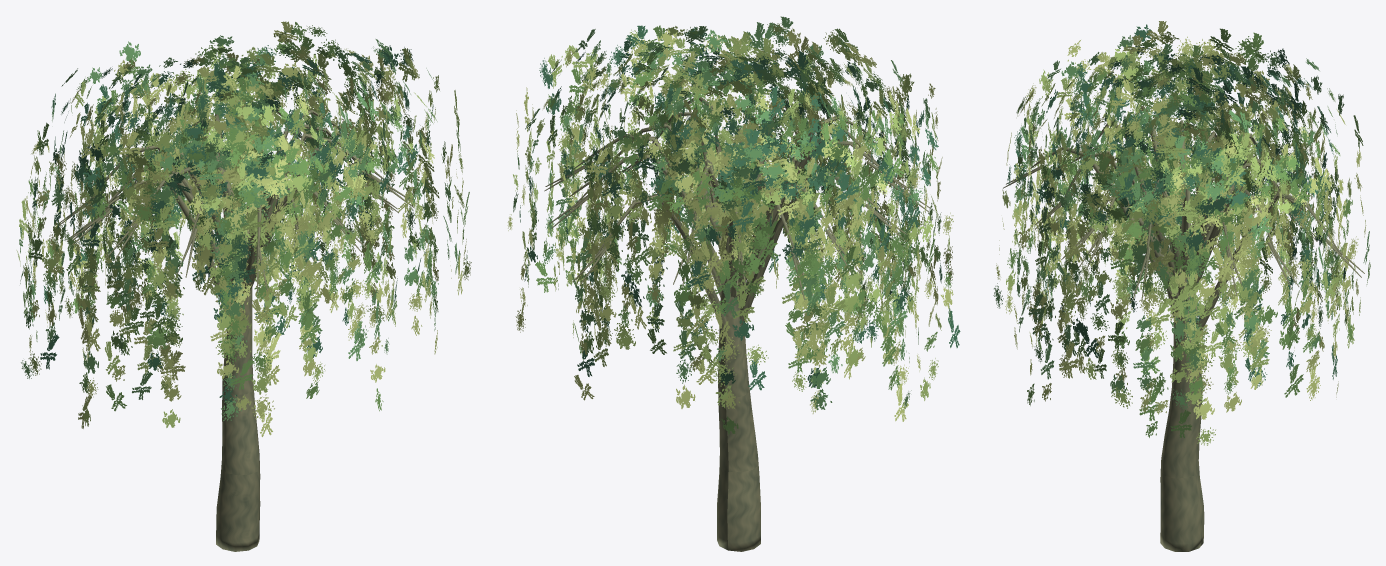
File: Tree_Willow_01_Weeping.glb
3 renders of one model, left to right at view 1: azimuth 30°, elevation 25°; view 2: azimuth 150°, elevation 25°; view 3: azimuth 270°, elevation 25°, orthographic. The views are drawn at different scales.
Visible parts, largest first — view 1: Tree_Willow_01_Weeping; view 2: Tree_Willow_01_Weeping; view 3: Tree_Willow_01_Weeping.
Part boxes in pixels (left/top/right/bottom): Tree_Willow_01_Weeping: left=16, top=21, right=471, bottom=551; Tree_Willow_01_Weeping: left=507, top=16, right=960, bottom=551; Tree_Willow_01_Weeping: left=993, top=21, right=1370, bottom=551.
Bounding box in the file's own units: 7.91 × 8.64 × 6.48.
Materials: 2 (2 with a texture image).
